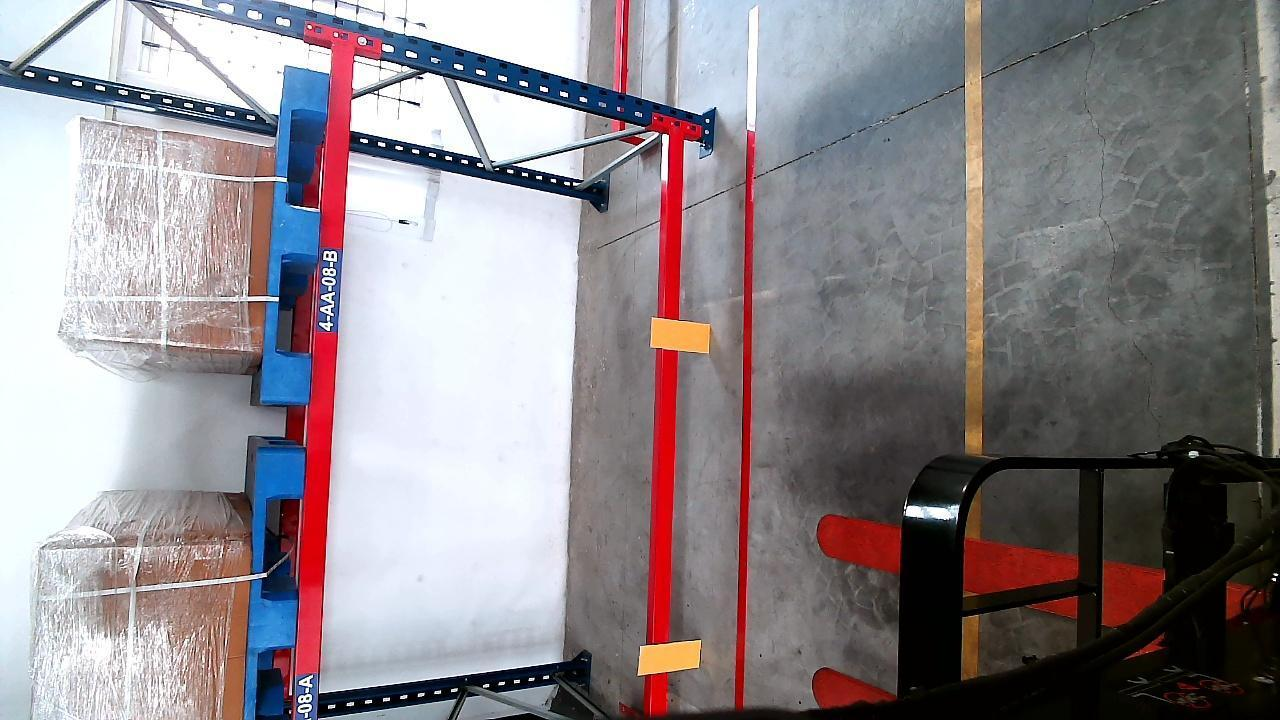h_rack: (299, 44, 351, 713), (649, 149, 685, 715)
orange_strip: (639, 637, 703, 675), (652, 318, 711, 351)
red_line: (731, 127, 759, 706)
small_pallet: (266, 67, 326, 408), (247, 446, 302, 720)
yellow_line: (965, 2, 988, 442)
